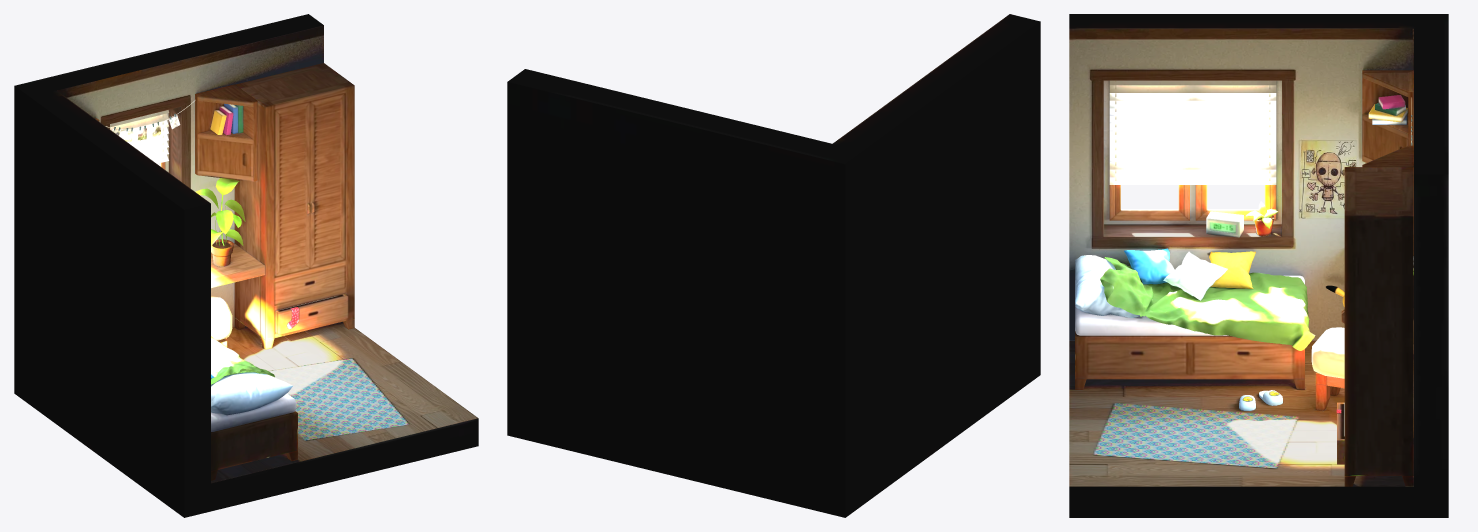
3 renders of one model, left to right at view 1: azimuth 30°, elevation 25°; view 2: azimuth 150°, elevation 25°; view 3: azimuth 270°, elevation 25°, orthographic. The views are drawn at different scales.
Parts seen in each view (by area): view 1: room_lowpoly, wardrobe_lowpoly, cupboards_lowpoly, bed_lowpoly, pillow_big_lowpoly, plant_big_lowpoly, shutter_lowpoly, desk_lowpoly, mattress_lowpoly, blanket_lowpoly, book_lowpoly, pouf_seat_lowpoly (+1 smaller); view 2: room_lowpoly; view 3: room_lowpoly, wardrobe_lowpoly, shutter_lowpoly, blanket_lowpoly, bed_lowpoly, cupboards_lowpoly, window_lowpoly, mattress_lowpoly, pillow_big_lowpoly, pillow_02_lowpoly, pouf_seat_lowpoly, pillow_03_lowpoly (+6 smaller).
Boxes of the visible parts, x1,y1,x2,y2 form: room_lowpoly: (14,14,478,517); wardrobe_lowpoly: (234,63,354,349); cupboards_lowpoly: (95,84,257,181); bed_lowpoly: (211,411,297,480); pillow_big_lowpoly: (211,372,292,415); plant_big_lowpoly: (195,178,245,266); shutter_lowpoly: (110,110,168,163); desk_lowpoly: (211,243,265,288); mattress_lowpoly: (211,384,296,431); blanket_lowpoly: (211,336,274,384); book_lowpoly: (210,103,243,135); pouf_seat_lowpoly: (211,296,232,340); room_lowpoly: (507,14,1040,517); room_lowpoly: (1069,14,1448,517); wardrobe_lowpoly: (1337,167,1413,486); shutter_lowpoly: (1109,80,1276,184); blanket_lowpoly: (1100,257,1315,350); bed_lowpoly: (1075,331,1304,389); cupboards_lowpoly: (1362,70,1413,255); window_lowpoly: (1109,185,1276,220); mattress_lowpoly: (1075,275,1304,335); pillow_big_lowpoly: (1075,255,1139,318); pillow_02_lowpoly: (1163,251,1227,300); pouf_seat_lowpoly: (1311,327,1344,378); pillow_03_lowpoly: (1209,251,1255,288).
Size of the model in its own units: 660 by 660 by 686.
3 materials, 3 textured.
